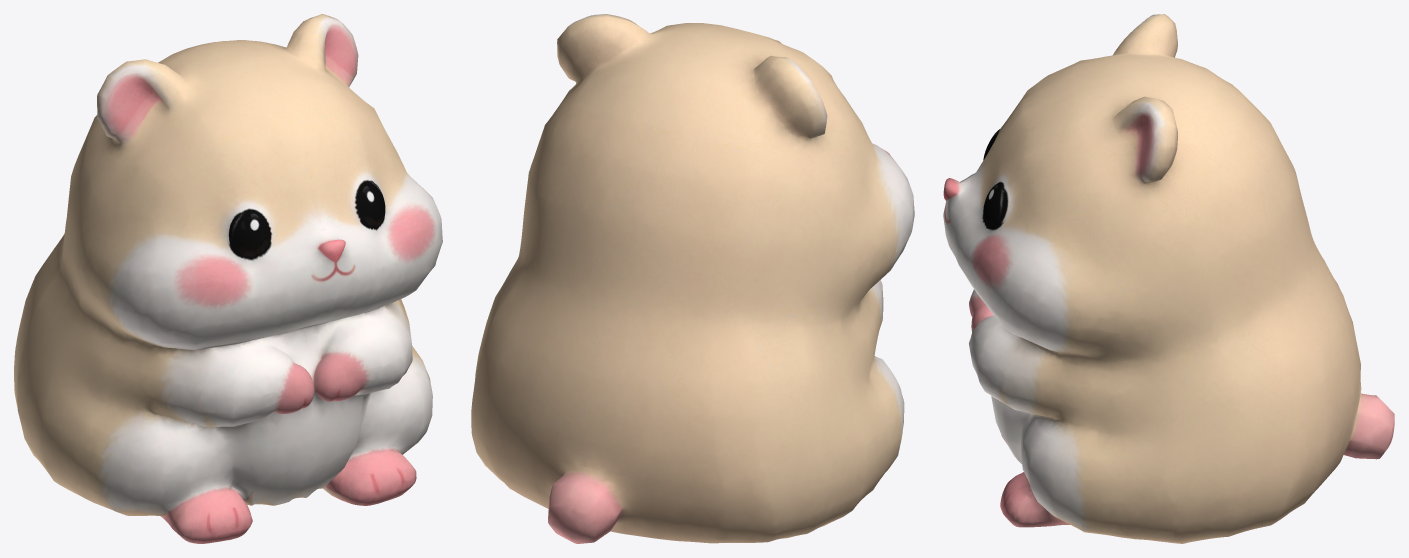
Rendered from hamster.glb.
3 views of the same model, side by side, from view 1: azimuth 30°, elevation 25°; view 2: azimuth 150°, elevation 25°; view 3: azimuth 270°, elevation 25° (orthographic). The views are drawn at different scales.
Size of the model in its own units: 1.65 by 1.9 by 1.86.
Materials: 1 (1 with a texture image).
